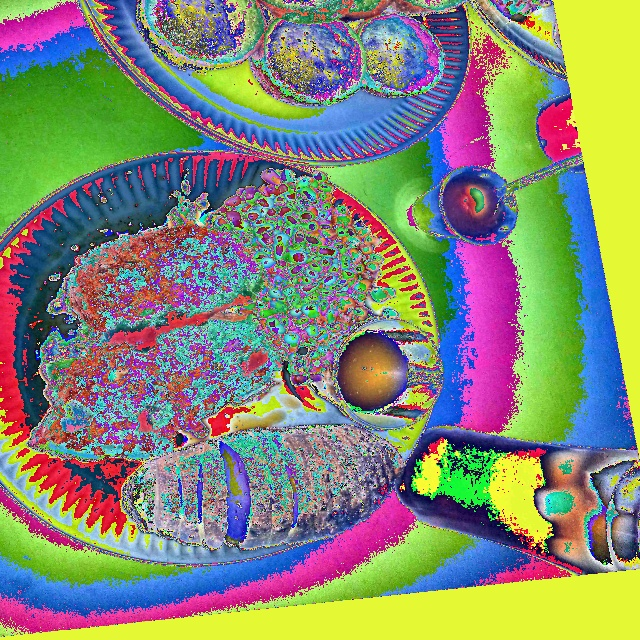background: (27, 169, 639, 575), (74, 84, 410, 414), (59, 58, 501, 237), (137, 0, 468, 107), (57, 0, 552, 16), (3, 0, 492, 1)
